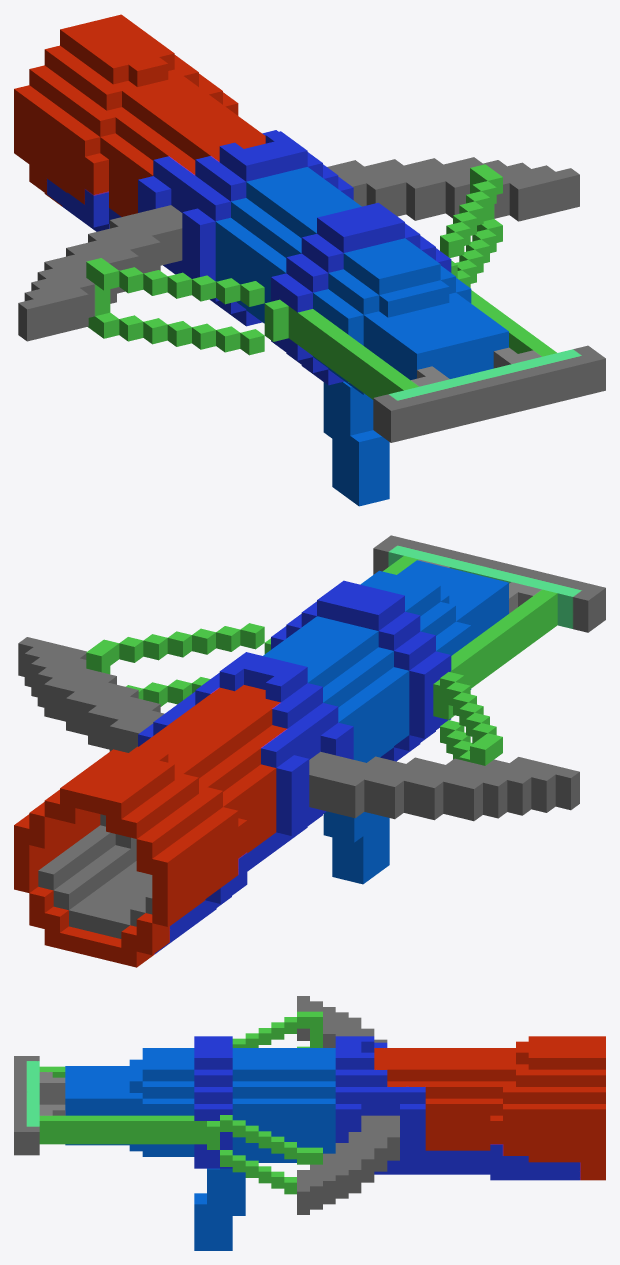
The model's file is aqua_force_crossbow_3.fbx.
3 views of the same model, one above another, from view 1: azimuth 30°, elevation 25°; view 2: azimuth 150°, elevation 25°; view 3: azimuth 270°, elevation 25° (orthographic). The views are drawn at different scales.
Parts seen in each view (by area): view 1: aqua_force_crossbow_3; view 2: aqua_force_crossbow_3; view 3: aqua_force_crossbow_3.
Part boxes in pixels (<box>): aqua_force_crossbow_3: <box>14,14,605,506</box>; aqua_force_crossbow_3: <box>14,535,605,967</box>; aqua_force_crossbow_3: <box>14,996,605,1250</box>.
Bounding box in the file's own units: 36 × 17 × 46.
